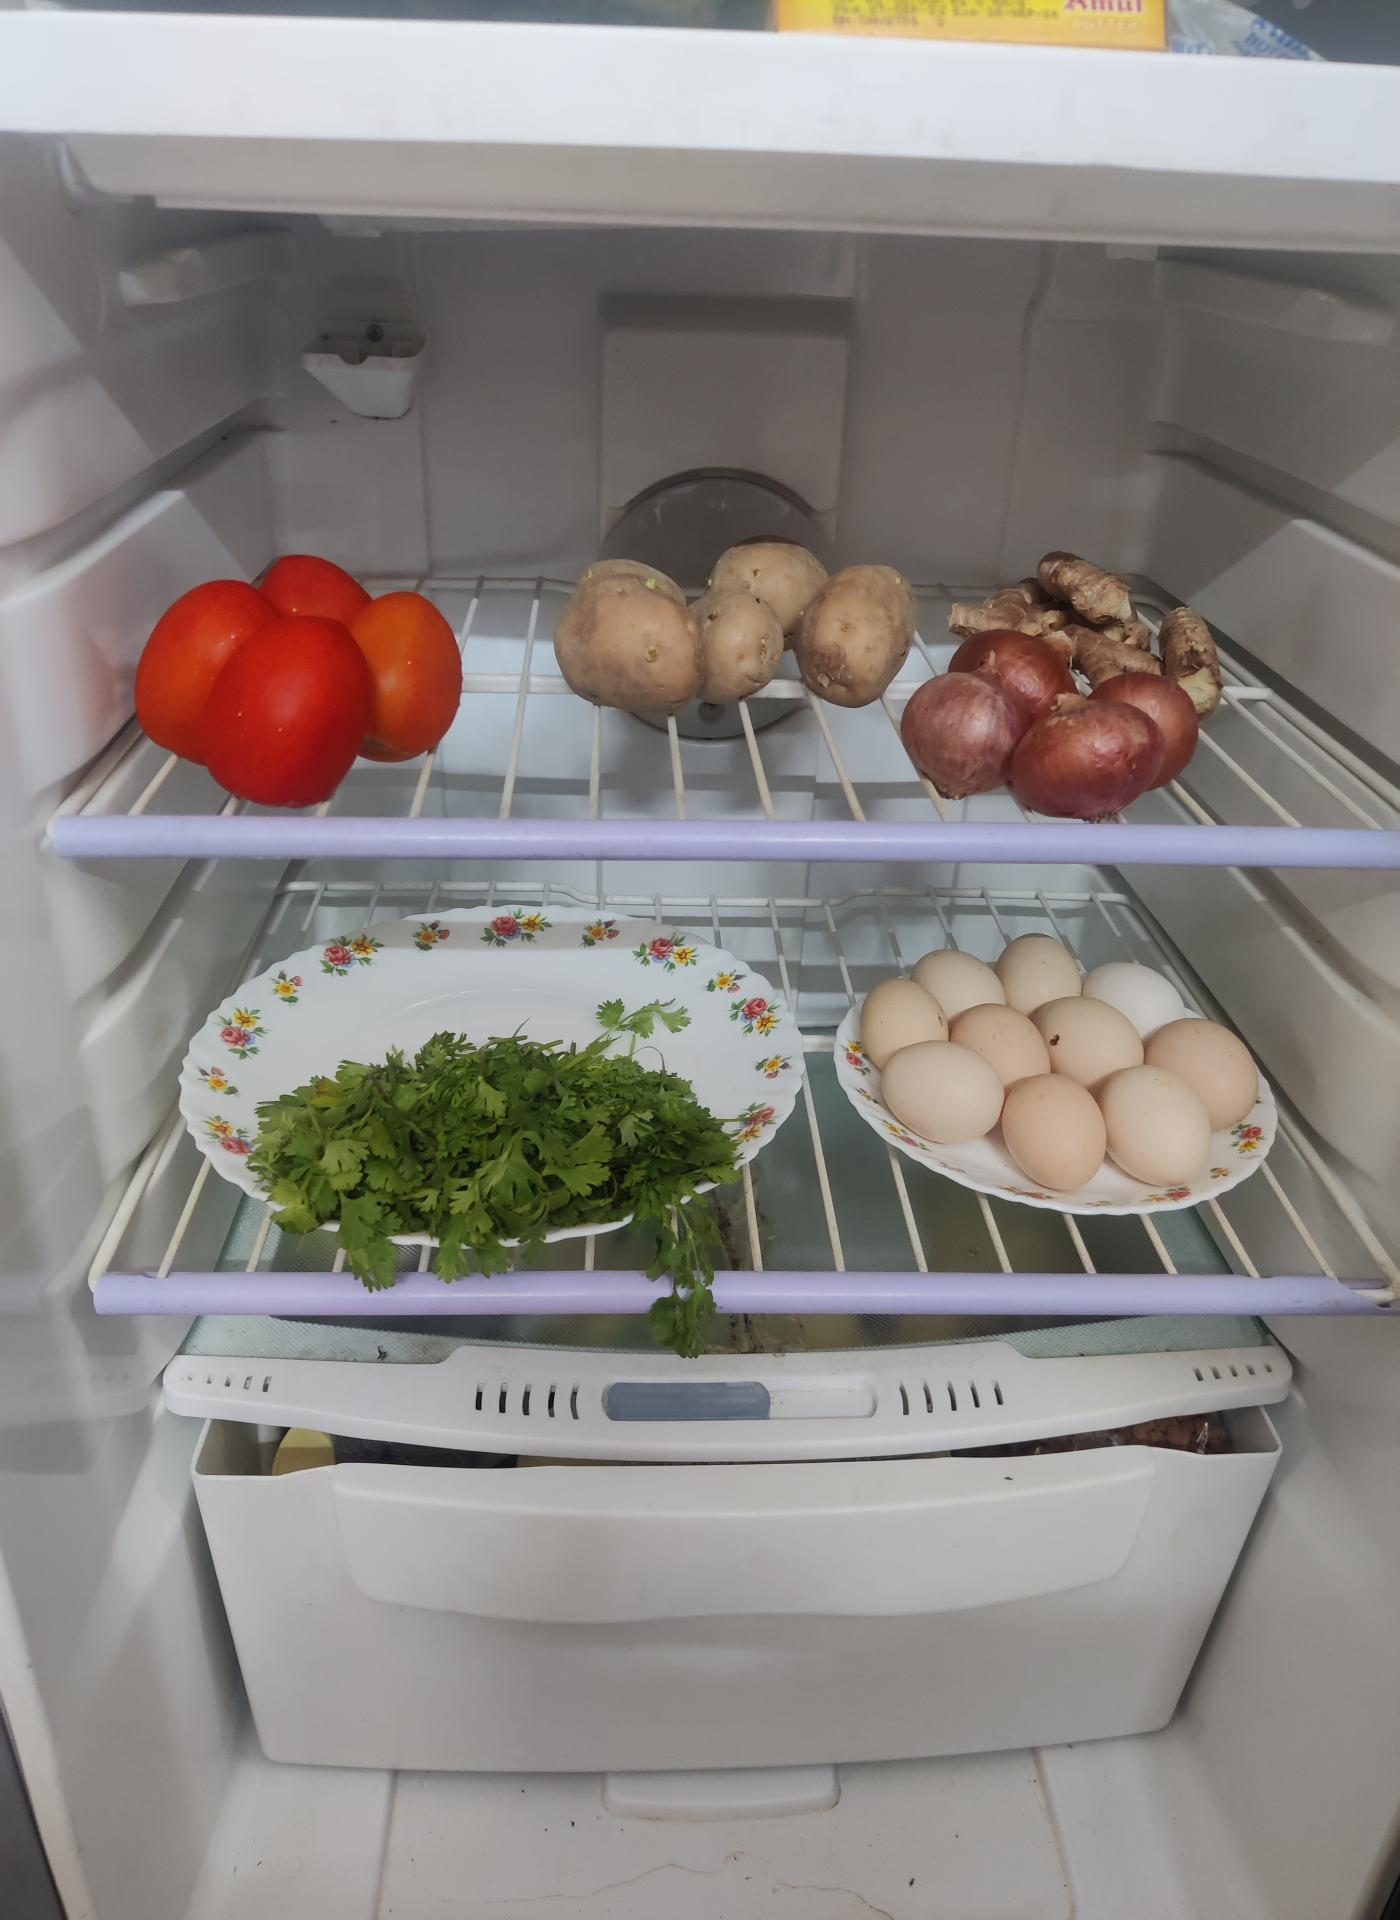coriander: (245, 1027, 742, 1255)
egg: (854, 921, 1267, 1179)
ginger: (972, 549, 1215, 654)
onion: (906, 640, 1202, 808)
potato: (562, 538, 926, 727)
tomato: (133, 546, 464, 799)
